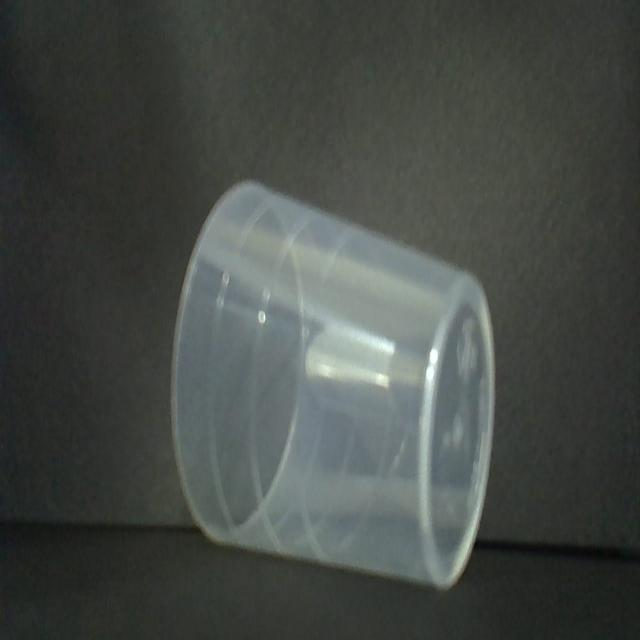cup: (163, 173, 500, 592)
